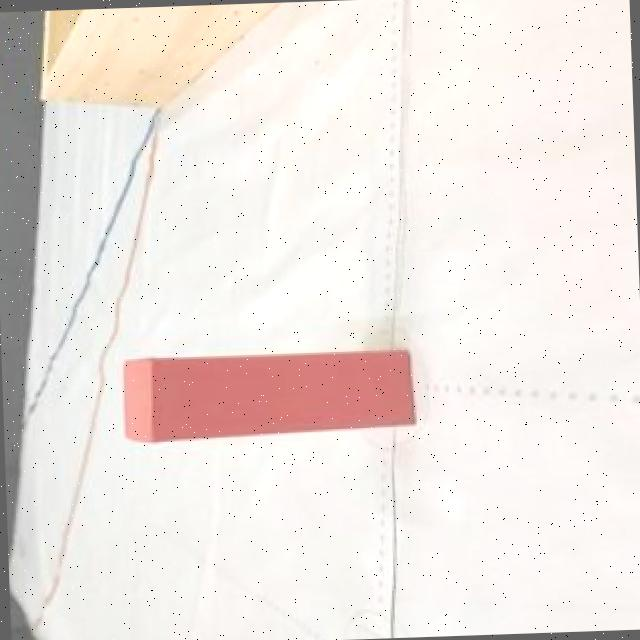redbox: (118, 349, 417, 443)
